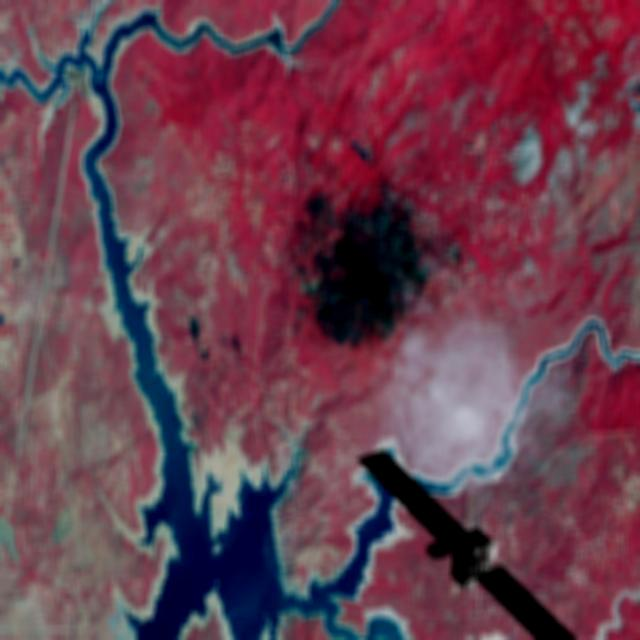satellite: (343, 437, 589, 640)
